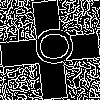O: (25, 25, 75, 69)
